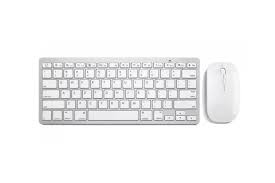keyboard: (32, 54, 201, 127)
mouse: (205, 56, 241, 125)
